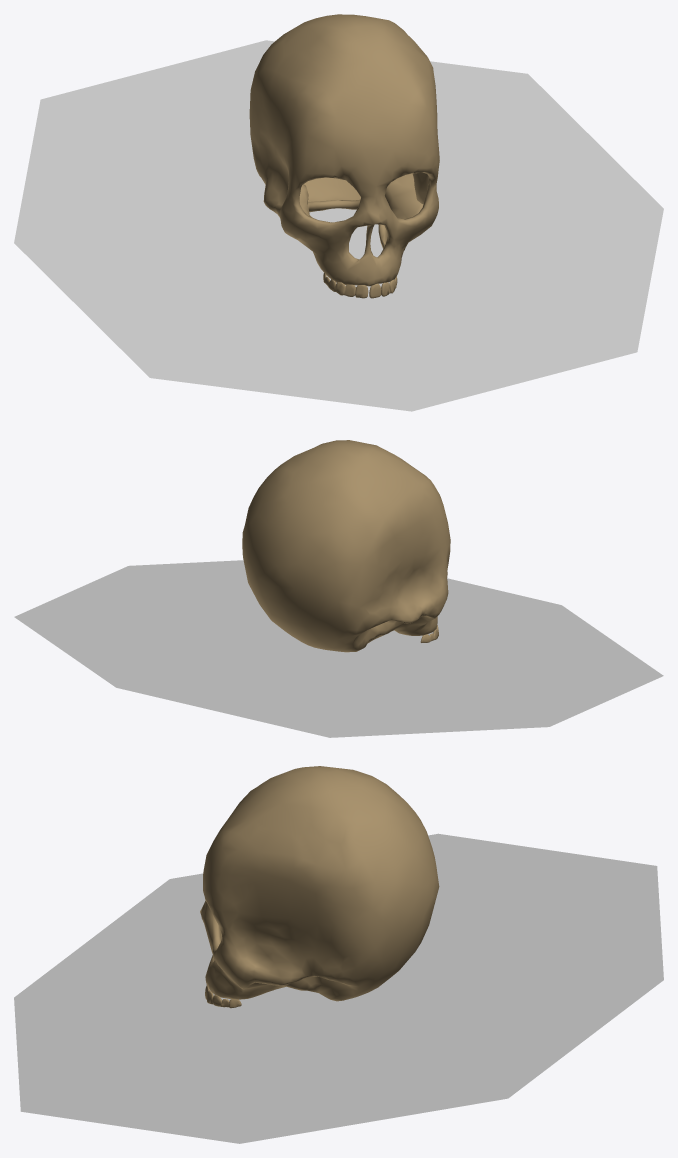
Rendered from skull_detailed.obj.
The picture shows the model from 3 angles, top to bottom: view 1: azimuth 30°, elevation 25°; view 2: azimuth 150°, elevation 25°; view 3: azimuth 270°, elevation 25°; orthographic projection. The views are drawn at different scales.
Visible parts, largest first — view 1: Sphere.001_Sphere.000; view 2: Sphere.001_Sphere.000; view 3: Sphere.001_Sphere.000.
Part boxes in pixels (bbox=[...]): Sphere.001_Sphere.000: bbox=[14, 14, 663, 411]; Sphere.001_Sphere.000: bbox=[14, 440, 663, 737]; Sphere.001_Sphere.000: bbox=[14, 766, 663, 1143].
Size of the model in its own units: 1.43 by 0.6383 by 1.41.
